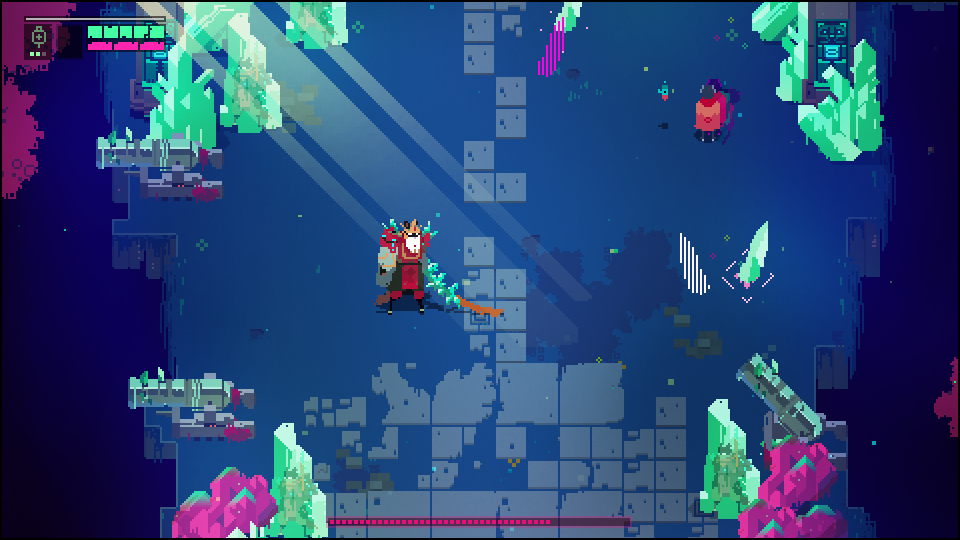hanged_crys: (735, 219, 776, 293), (671, 230, 710, 300), (530, 18, 568, 86)
hanged_man: (364, 214, 469, 322)
player: (694, 81, 724, 144)
